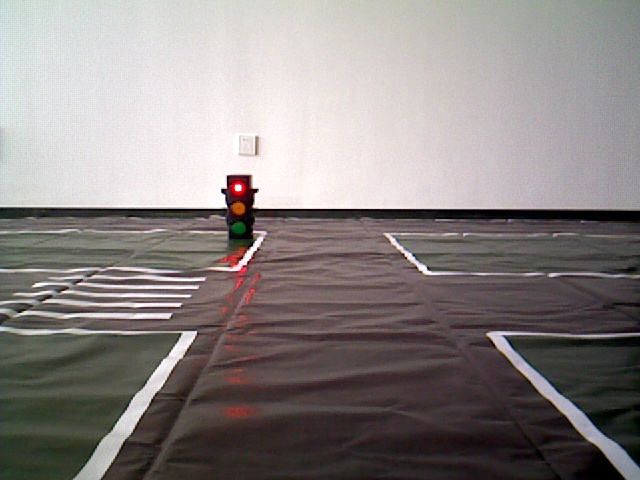red: (227, 174, 248, 237)
